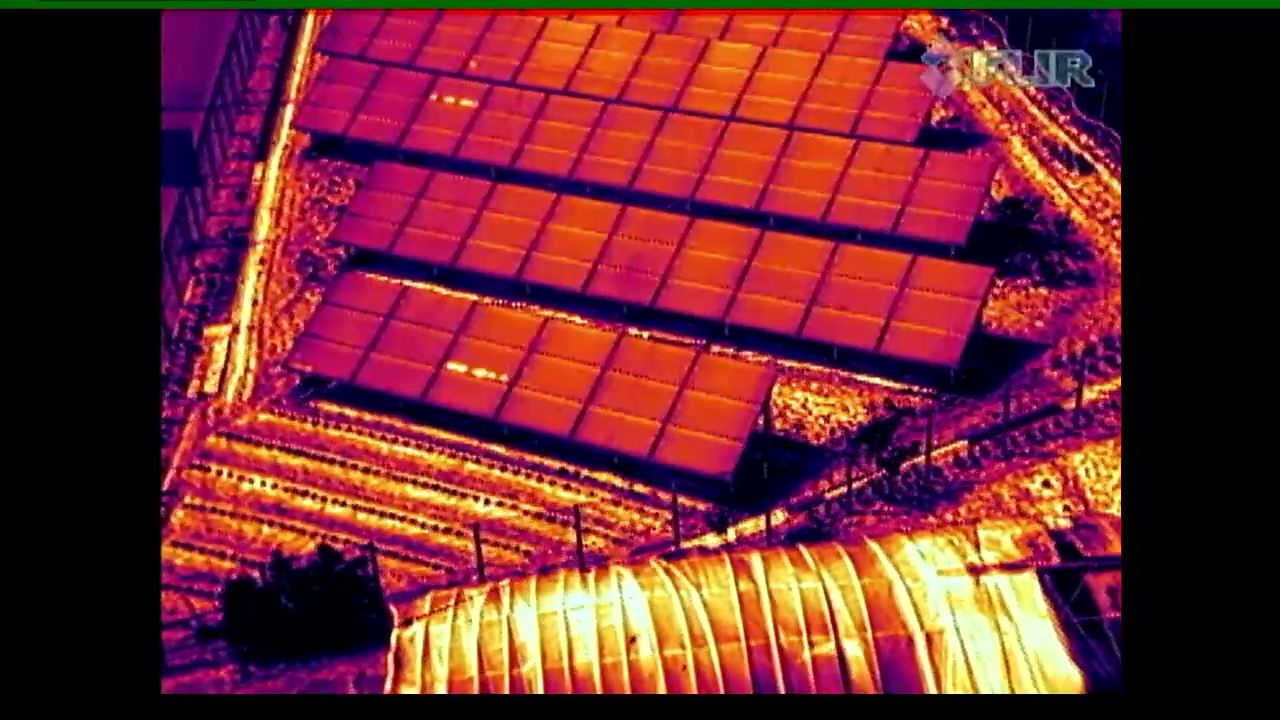hotspot: (415, 305, 551, 421), (400, 76, 497, 160), (463, 9, 546, 86)
